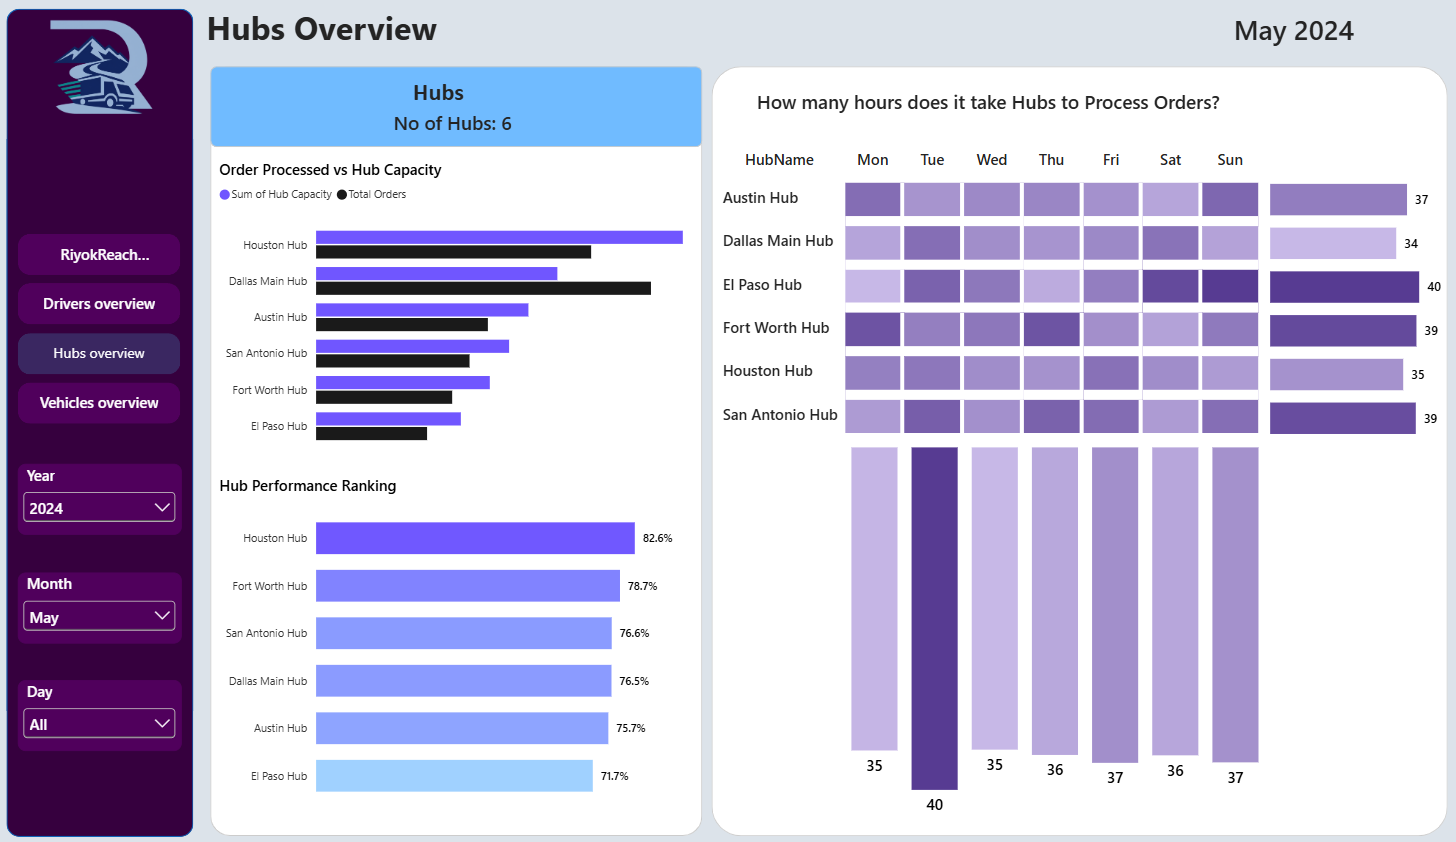

Layout of this report page (visuals, bound fields, positions):
{"tool":"powerbi","page":{"name":"Hubs overview","canvas":[1450,850],"ordinal":2},"visuals":[{"type":"shape","box":[12.4,14,185,820],"z":0},{"type":"textbox","box":[210,10,491,43.5],"z":1000},{"type":"slicer","fields":{"Values":["Date Table.Year"]},"box":[24,464.5,162,70],"z":2000},{"type":"slicer","fields":{"Values":["Date Table.Month"]},"box":[24,571.3,162,70],"z":3000},{"type":"image","box":[6.7,13.3,197.6,114.8],"z":4000},{"type":"cardVisual","fields":{"Data":["Orders.Year Month Title"]},"box":[1146.6,9.3,283,44],"z":5000},{"type":"shape","box":[710.4,70.5,729,762.4],"z":6000},{"type":"shape","box":[213.6,70.7,487.2,762.2],"z":7000},{"type":"shape","box":[213.6,70.7,487.2,80.1],"z":8000},{"type":"textbox","box":[361,80,157.5,31],"z":9000},{"type":"cardVisual","fields":{"Data":["Orders.No of Hubs"]},"box":[313.7,110.8,283,28],"z":10000},{"type":"clusteredBarChart","title":"Order Processed vs Hub Capacity","fields":{"Category":["Hubs.HubName"],"Y":["Sum(Hubs.Hub Capacity)","Orders.Total Orders"]},"box":[213.6,150.8,487.2,313.7],"z":11000},{"type":"barChart","title":"Hub Performance Ranking","fields":{"Category":["Hubs.HubName"],"Y":["Orders.On Time Delivered Rate"]},"box":[213.6,464.5,487.2,353.7],"z":12000},{"type":"pivotTable","fields":{"Columns":["Date Table.Day"],"Rows":["Hubs.HubName"],"Values":["Orders.AVG Delivery Time (Hrs)"]},"box":[700.7,133.9,576.6,324.4],"z":13000},{"type":"columnChart","fields":{"Category":["Date Table.Day"],"Y":["Orders.AVG Delivery Time (Hrs)"]},"box":[832.9,424.8,436.5,407.1],"z":14000},{"type":"barChart","fields":{"Category":["Hubs.HubName"],"Y":["Orders.AVG Delivery Time (Hrs)"]},"box":[1248,164.6,201.6,287],"z":15000},{"type":"cardVisual","fields":{"Data":["Hubs.Hubs Title"]},"box":[710.1,82.8,548.6,42.7],"z":16000},{"type":"pageNavigator","box":[24,236.3,161.5,188.2],"z":17000},{"type":"slicer","fields":{"Values":["Date Table.Day"]},"box":[24,678.1,162,70],"z":17001}]}

Visuals, with their boxes on the page's 1450x850 design canvas (x1, y1, x2, y2). These are canvas units, not pixel positions in the 1456x842 screenshot, which may show the page scaled, cropped or inside an application window:
shape: <bbox>12, 14, 197, 834</bbox>
textbox: <bbox>210, 10, 701, 54</bbox>
slicer - Date Table.Year: <bbox>24, 464, 186, 534</bbox>
slicer - Date Table.Month: <bbox>24, 571, 186, 641</bbox>
image: <bbox>7, 13, 204, 128</bbox>
cardVisual - Orders.Year Month Title: <bbox>1147, 9, 1430, 53</bbox>
shape: <bbox>710, 70, 1439, 833</bbox>
shape: <bbox>214, 71, 701, 833</bbox>
shape: <bbox>214, 71, 701, 151</bbox>
textbox: <bbox>361, 80, 518, 111</bbox>
cardVisual - Orders.No of Hubs: <bbox>314, 111, 597, 139</bbox>
"Order Processed vs Hub Capacity" clusteredBarChart: <bbox>214, 151, 701, 464</bbox>
"Hub Performance Ranking" barChart: <bbox>214, 464, 701, 818</bbox>
pivotTable - Date Table.Day x Hubs.HubName: <bbox>701, 134, 1277, 458</bbox>
columnChart - Date Table.Day x Orders.AVG Delivery Time (Hrs): <bbox>833, 425, 1269, 832</bbox>
barChart - Hubs.HubName x Orders.AVG Delivery Time (Hrs): <bbox>1248, 165, 1450, 452</bbox>
cardVisual - Hubs.Hubs Title: <bbox>710, 83, 1259, 126</bbox>
pageNavigator: <bbox>24, 236, 186, 424</bbox>
slicer - Date Table.Day: <bbox>24, 678, 186, 748</bbox>
